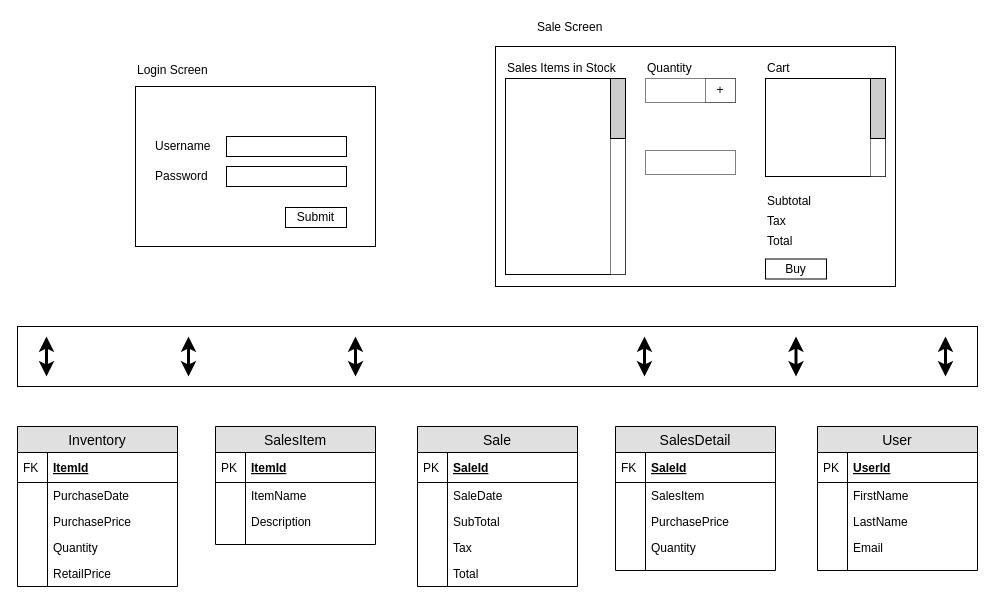
The diagram is 995 pixels wide and 606 high, and some of its shapes have lost their labels. The centre of each missing label's shape, as x and y in pixels:
"Add to Cart" goes at point (690, 162).
"API (Middle Layer" goes at point (497, 356).
